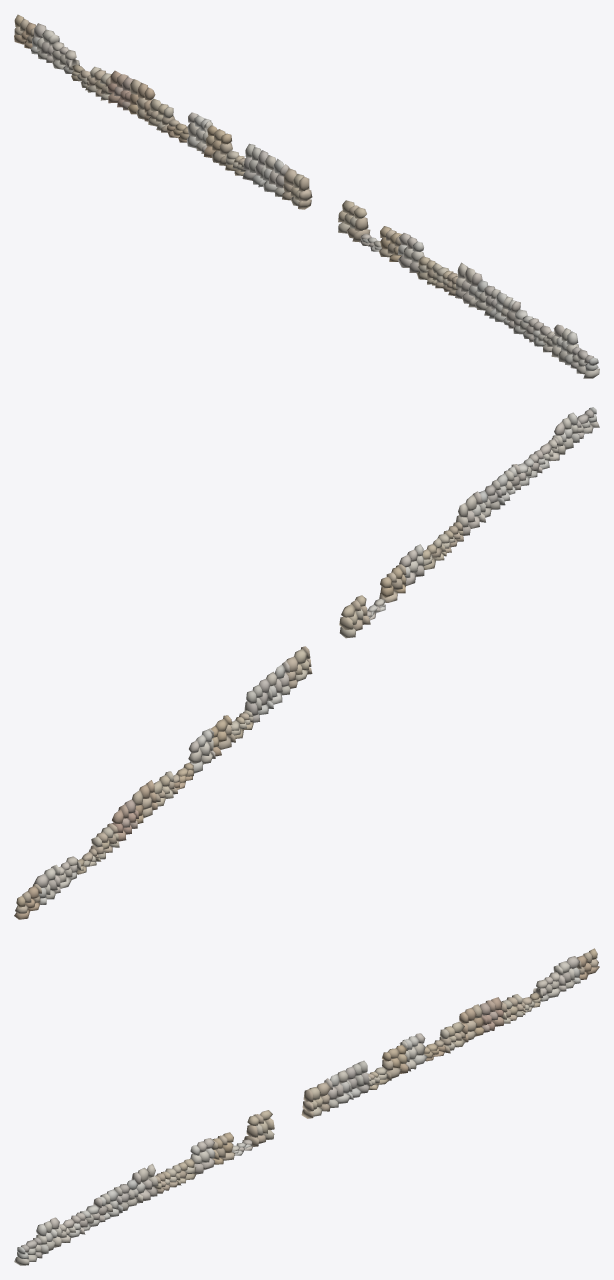
File: farm_9_-2_near.glb
3 views of the same model, one above another, from view 1: azimuth 30°, elevation 25°; view 2: azimuth 150°, elevation 25°; view 3: azimuth 330°, elevation 25° (orthographic). The views are drawn at different scales.
Visible parts, largest first — view 1: geometry_0; view 2: geometry_0; view 3: geometry_0.
Part boxes in pixels (x1=…): geometry_0: x1=14, y1=14, x2=599, y2=378; geometry_0: x1=14, y1=407, x2=599, y2=919; geometry_0: x1=14, y1=948, x2=599, y2=1265.
Bounding box in the file's own units: 1.97 × 5.95 × 46.69.
